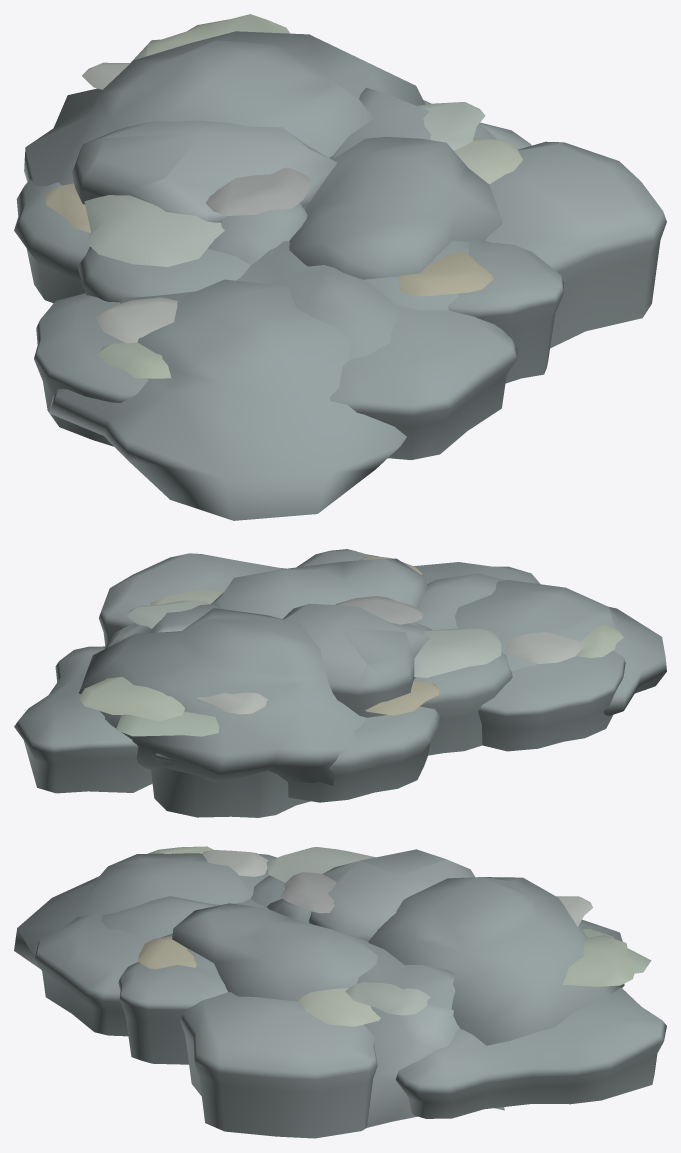
3 views of the same model, one above another, from view 1: azimuth 30°, elevation 25°; view 2: azimuth 150°, elevation 25°; view 3: azimuth 270°, elevation 25° (orthographic). The views are drawn at different scales.
Visible parts, largest first — view 1: G:\FFXIV-MapTools\exports\y6t1\bg\ex5\02_ykt_y6\twn\y6t1\bgp (×2); view 2: G:\FFXIV-MapTools\exports\y6t1\bg\ex5\02_ykt_y6\twn\y6t1\bgp (×2); view 3: G:\FFXIV-MapTools\exports\y6t1\bg\ex5\02_ykt_y6\twn\y6t1\bgp (×2).
Part boxes in pixels (x1,y1,x2,y2): G:\FFXIV-MapTools\exports\y6t1\bg\ex5\02_ykt_y6\twn\y6t1\bgp (×2): (14,14,666,520); G:\FFXIV-MapTools\exports\y6t1\bg\ex5\02_ykt_y6\twn\y6t1\bgp (×2): (14,549,666,817); G:\FFXIV-MapTools\exports\y6t1\bg\ex5\02_ykt_y6\twn\y6t1\bgp (×2): (14,846,666,1138).
Bounding box in the file's own units: 19.33 × 6.14 × 22.48.
